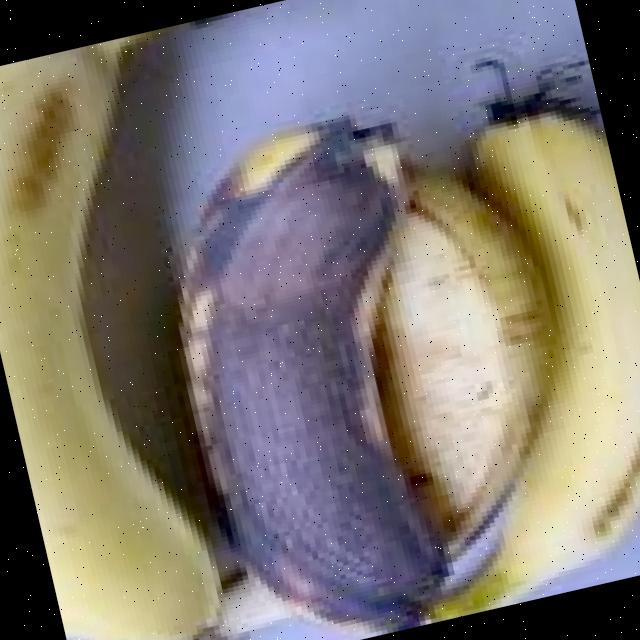Bad_Banana-0 day: (180, 121, 447, 629)
Good_Banana-2-3 days: (0, 41, 219, 640), (425, 113, 640, 621)
